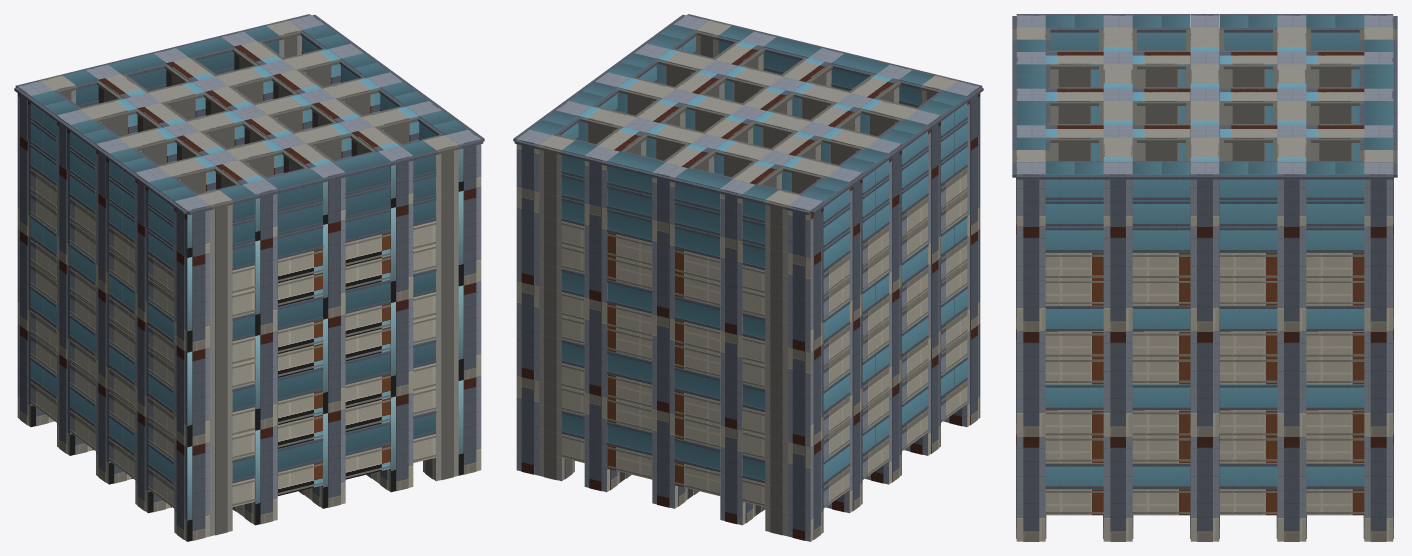
The model's file is tower.fbx.
3 renders of one model, left to right at view 1: azimuth 30°, elevation 25°; view 2: azimuth 150°, elevation 25°; view 3: azimuth 270°, elevation 25°, orthographic. The views are drawn at different scales.
Parts seen in each view (by area): view 1: steel_x00_y04_z12, steel_x00_y08_z12, steel_x00_y00_z12, steel_x09_y00_z12, steel_x06_y00_z12, steel_x03_y00_z12, steel_x12_y08_z12, steel_x12_y00_z12, steel_x12_y04_z12, steel_x09_y04_z12, steel_x09_y08_z12, steel_x06_y04_z12 (+184 smaller); view 2: steel_x00_y04_z00, steel_x00_y08_z00, steel_x00_y00_z00, steel_x09_y00_z00, steel_x06_y00_z00, steel_x03_y00_z00, steel_x12_y08_z00, steel_x12_y00_z00, steel_x12_y04_z00, steel_x09_y04_z00, steel_x09_y08_z00, steel_x06_y04_z00 (+184 smaller); view 3: steel_x12_y00_z00, steel_x12_y00_z12, steel_x12_y00_z03, steel_x12_y00_z09, steel_x12_y00_z06, steel_x12_y04_z00, steel_x12_y04_z12, steel_x12_y08_z00, steel_x12_y08_z12, steel_x12_y04_z03, steel_x12_y04_z09, steel_x12_y08_z03 (+134 smaller).
Part boxes in pixels (x1,y1,x2,y2): steel_x00_y04_z12: (174, 343, 209, 447); steel_x00_y08_z12: (174, 249, 209, 352); steel_x00_y00_z12: (174, 438, 209, 541); steel_x09_y00_z12: (378, 392, 413, 492); steel_x06_y00_z12: (310, 409, 345, 508); steel_x03_y00_z12: (242, 425, 277, 525); steel_x12_y08_z12: (458, 186, 481, 286); steel_x12_y00_z12: (458, 376, 481, 475); steel_x12_y04_z12: (458, 281, 481, 380); steel_x09_y04_z12: (390, 297, 413, 397); steel_x09_y08_z12: (390, 203, 413, 302); steel_x06_y04_z12: (323, 314, 345, 413); steel_x00_y04_z00: (788, 343, 823, 447); steel_x00_y08_z00: (788, 249, 823, 352); steel_x00_y00_z00: (788, 438, 823, 541); steel_x09_y00_z00: (584, 392, 619, 492); steel_x06_y00_z00: (652, 409, 687, 508); steel_x03_y00_z00: (720, 425, 755, 525); steel_x12_y08_z00: (516, 186, 539, 286); steel_x12_y00_z00: (516, 376, 539, 475); steel_x12_y04_z00: (516, 281, 539, 380); steel_x09_y04_z00: (584, 297, 607, 397); steel_x09_y08_z00: (584, 203, 607, 302); steel_x06_y04_z00: (652, 314, 674, 413); steel_x12_y00_z00: (1363, 434, 1393, 541); steel_x12_y00_z12: (1016, 434, 1046, 541); steel_x12_y00_z03: (1276, 436, 1306, 541); steel_x12_y00_z09: (1103, 436, 1133, 541); steel_x12_y00_z06: (1190, 427, 1219, 541); steel_x12_y04_z00: (1364, 329, 1393, 436); steel_x12_y04_z12: (1016, 329, 1045, 436); steel_x12_y08_z00: (1364, 224, 1393, 331); steel_x12_y08_z12: (1016, 224, 1045, 331); steel_x12_y04_z03: (1277, 331, 1306, 436); steel_x12_y04_z09: (1103, 331, 1132, 436); steel_x12_y08_z03: (1277, 226, 1306, 331).
Bounding box in the file's own units: 39.94 × 41.99 × 39.94.
Materials: 1 (1 with a texture image).
